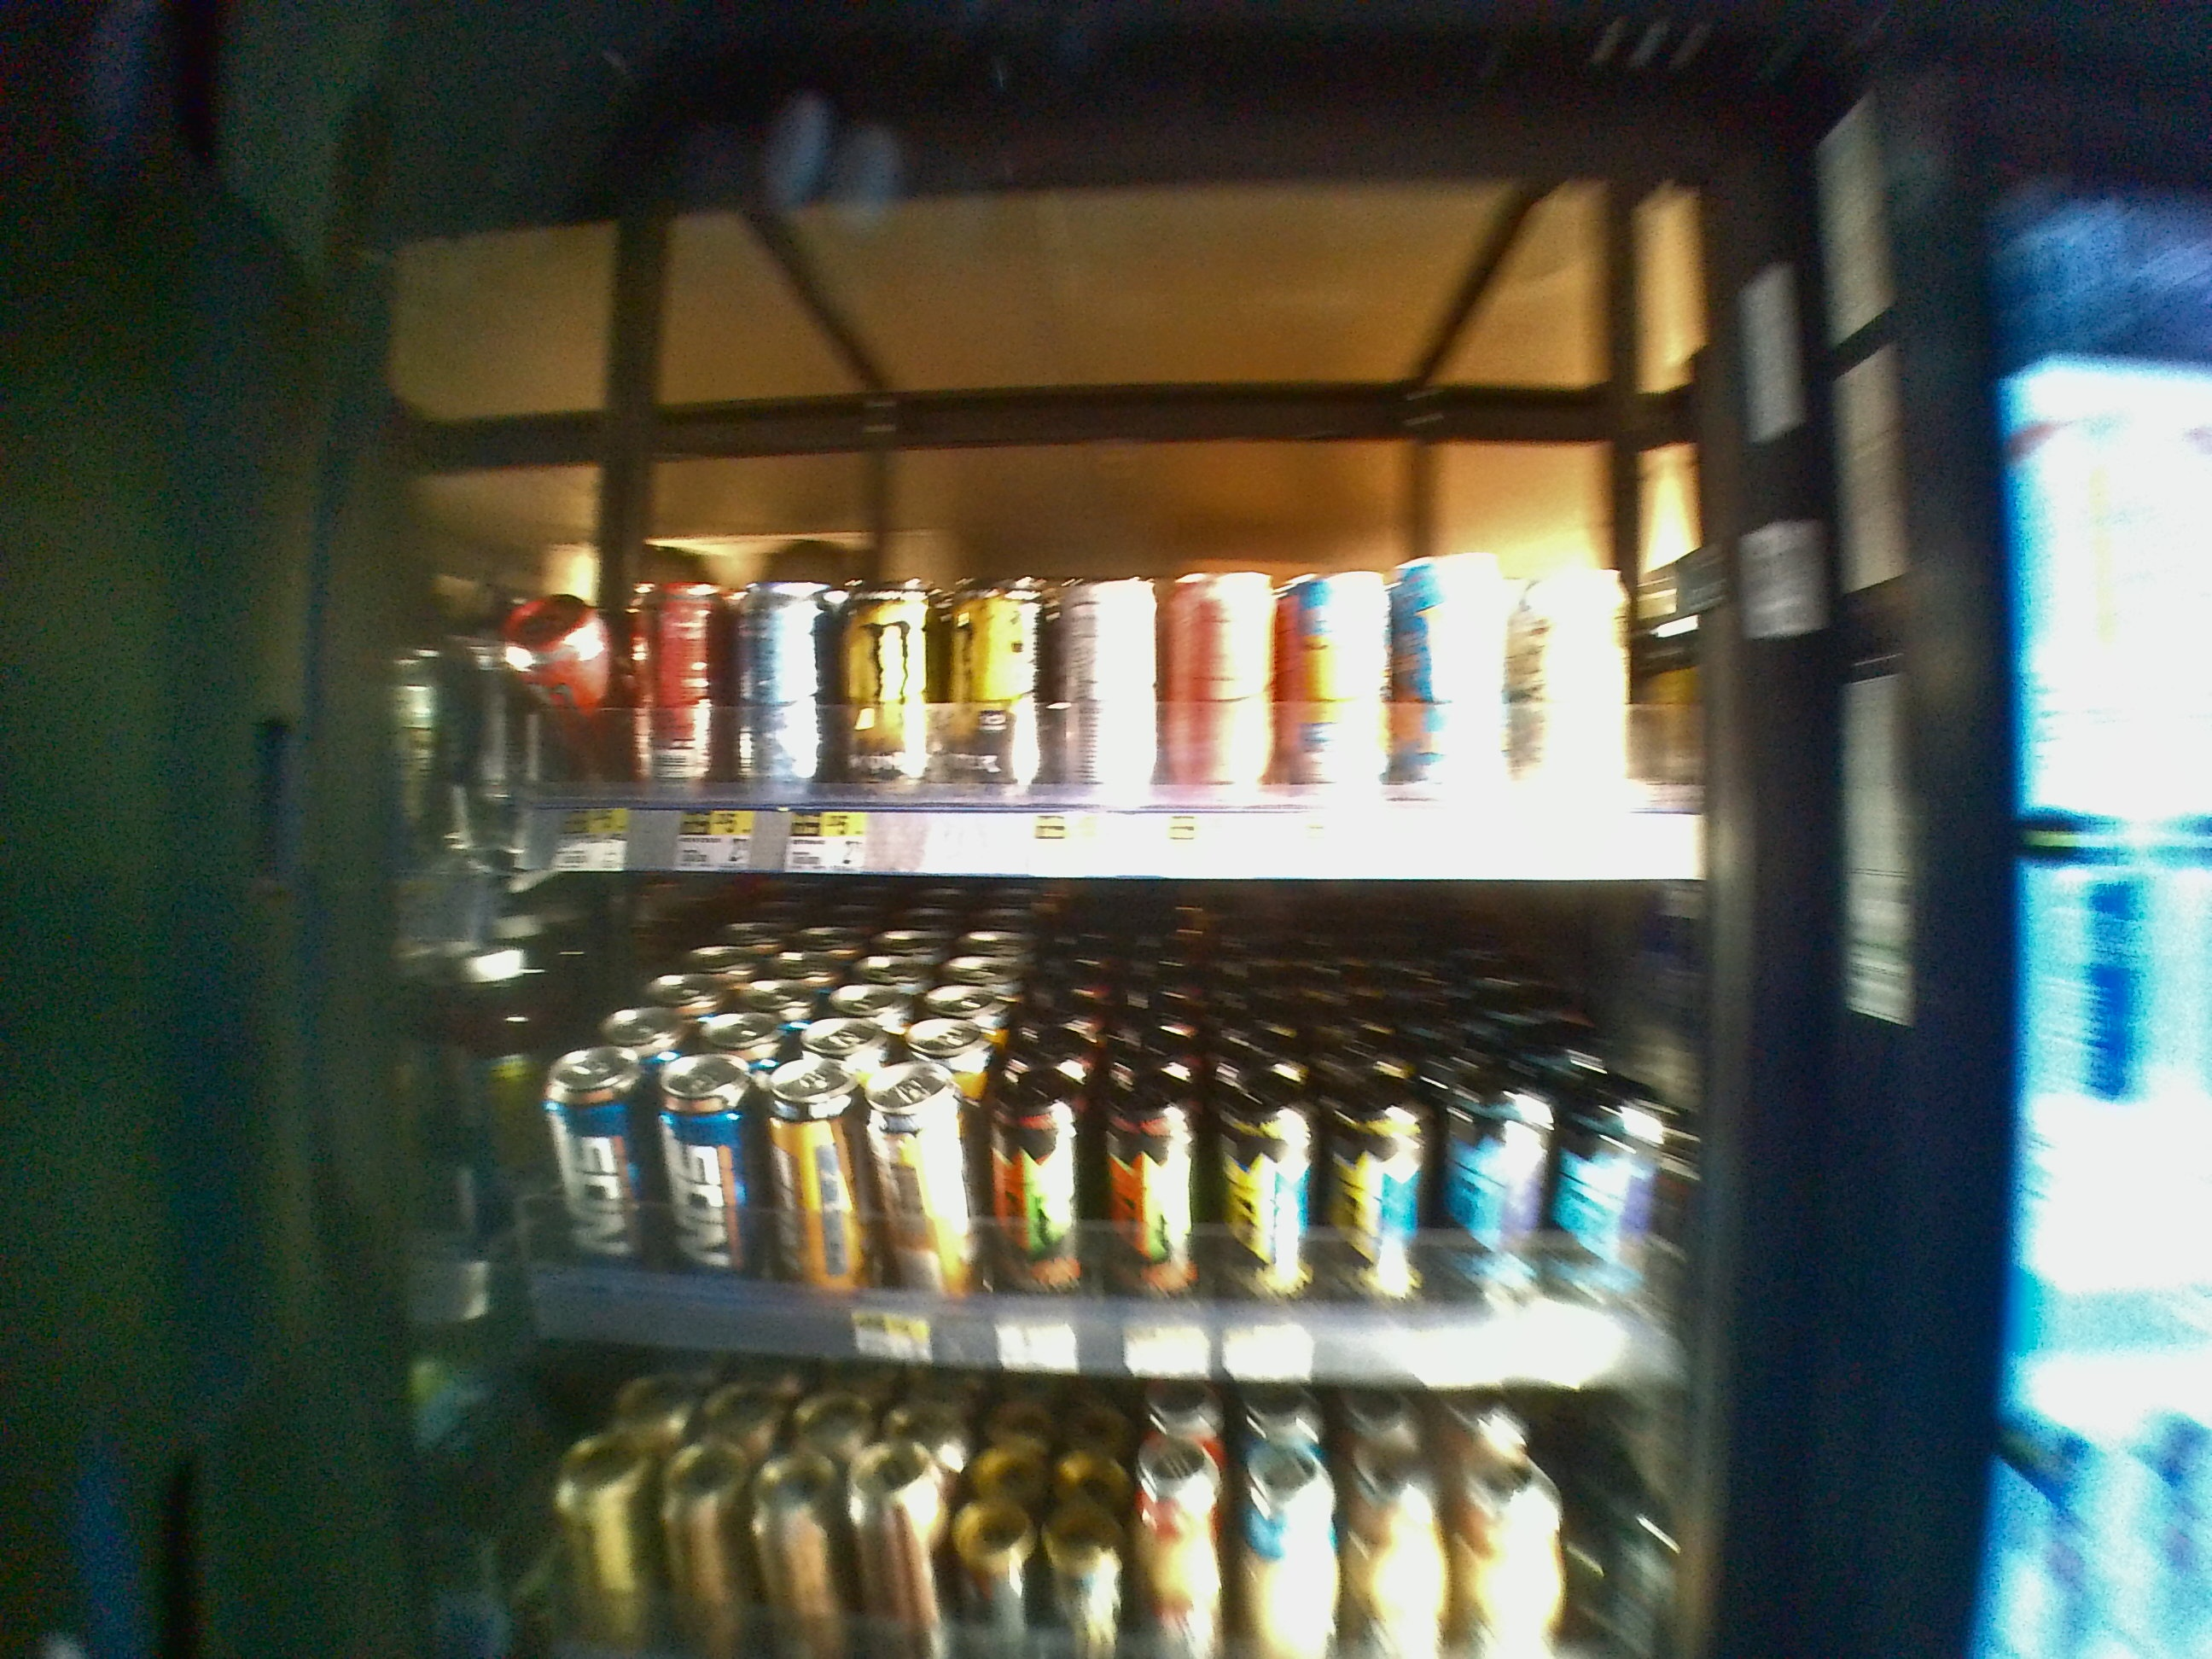shelf: (418, 193, 1740, 880), (402, 866, 1743, 1375)
